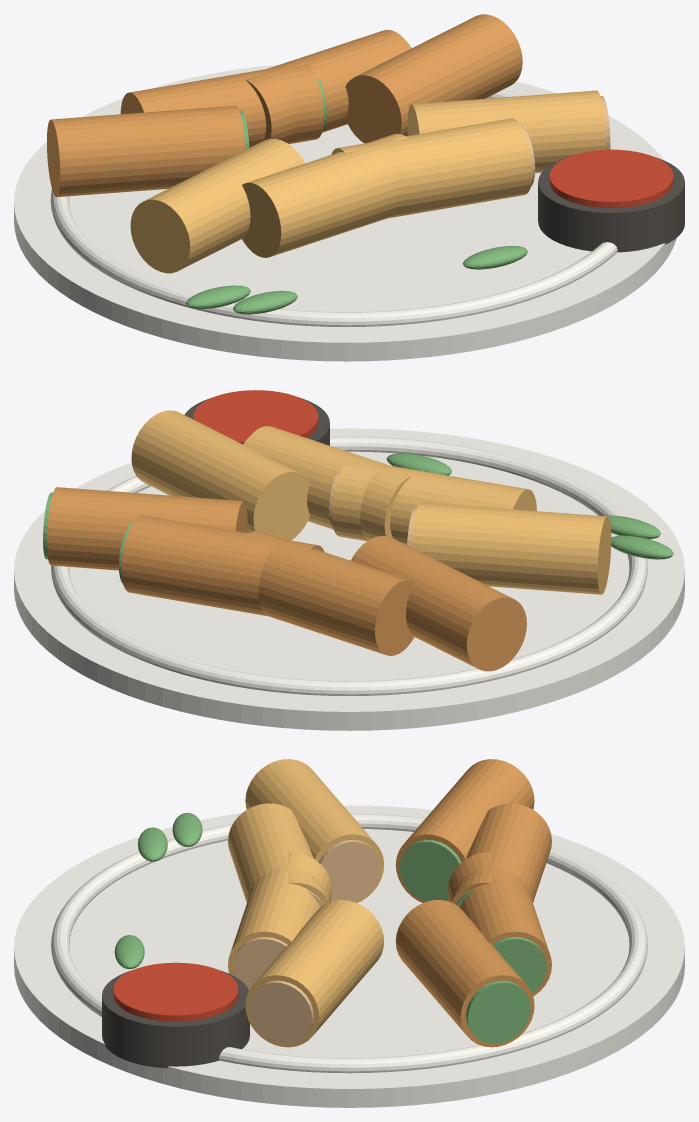
File: spring-roll-v110.glb
3 views of the same model, one above another, from view 1: azimuth 30°, elevation 25°; view 2: azimuth 150°, elevation 25°; view 3: azimuth 270°, elevation 25° (orthographic).
Parts seen in each view (by area): view 1: plate, roll_1, roll_4, roll_6, roll_7, roll_5, rim, roll_8, sauce_bowl, roll_2, roll_3, chili_sauce (+3 smaller); view 2: plate, rim, roll_5, roll_8, roll_2, roll_3, roll_1, roll_4, roll_6, roll_7, chili_sauce, garnish_0 (+3 smaller); view 3: plate, rim, roll_4, roll_8, sauce_bowl, roll_1, roll_5, chili_sauce, roll_2, roll_6, roll_3, roll_7 (+9 smaller).
Part boxes in pixels (left/top/right/bottom): plate: left=14, top=64, right=676, bottom=361; roll_1: left=47, top=105, right=245, bottom=197; roll_4: left=345, top=14, right=522, bottom=143; roll_6: left=242, top=133, right=408, bottom=257; roll_7: left=331, top=118, right=532, bottom=218; roll_5: left=130, top=139, right=305, bottom=273; rim: left=50, top=89, right=619, bottom=326; roll_8: left=407, top=90, right=606, bottom=173; sauce_bowl: left=538, top=157, right=684, bottom=252; roll_2: left=120, top=64, right=324, bottom=147; roll_3: left=245, top=29, right=410, bottom=143; chili_sauce: left=549, top=149, right=673, bottom=208; plate: left=14, top=428, right=684, bottom=730; rim: left=51, top=436, right=647, bottom=695; roll_5: left=411, top=502, right=611, bottom=594; roll_8: left=131, top=410, right=310, bottom=540; roll_2: left=247, top=531, right=414, bottom=655; roll_3: left=121, top=515, right=324, bottom=616; roll_1: left=351, top=536, right=526, bottom=671; roll_4: left=47, top=487, right=247, bottom=570; roll_6: left=331, top=461, right=536, bottom=544; roll_7: left=244, top=426, right=411, bottom=540; chili_sauce: left=193, top=390, right=318, bottom=444; garnish_0: left=611, top=535, right=673, bottom=559; plate: left=14, top=805, right=684, bottom=1107; rim: left=51, top=813, right=647, bottom=1073; roll_4: left=395, top=900, right=534, bottom=1047; roll_8: left=245, top=900, right=384, bottom=1047; sauce_bowl: left=102, top=970, right=249, bottom=1068; roll_1: left=395, top=759, right=534, bottom=902; roll_5: left=245, top=759, right=384, bottom=902; chili_sauce: left=113, top=962, right=238, bottom=1021; roll_2: left=451, top=803, right=551, bottom=904; roll_6: left=228, top=803, right=328, bottom=904; roll_3: left=447, top=852, right=551, bottom=996; roll_7: left=228, top=852, right=332, bottom=975.
Bounding box in the file's own units: 0.29 × 0.047 × 0.29.
